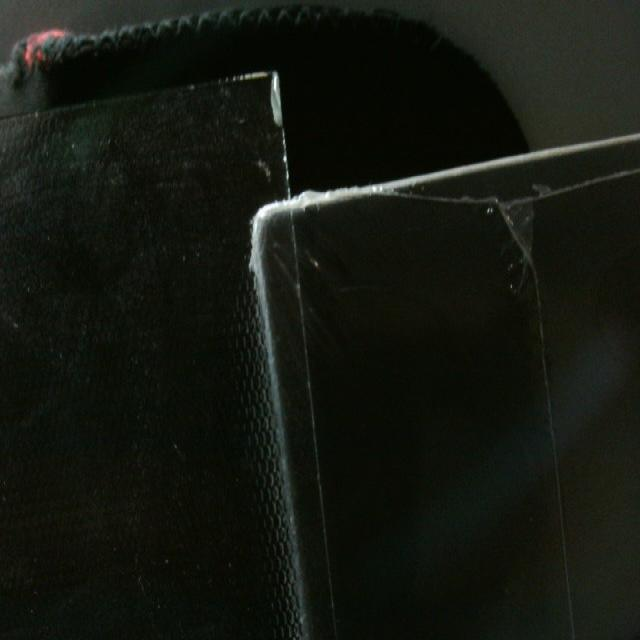edge_chip: (267, 67, 285, 135)
